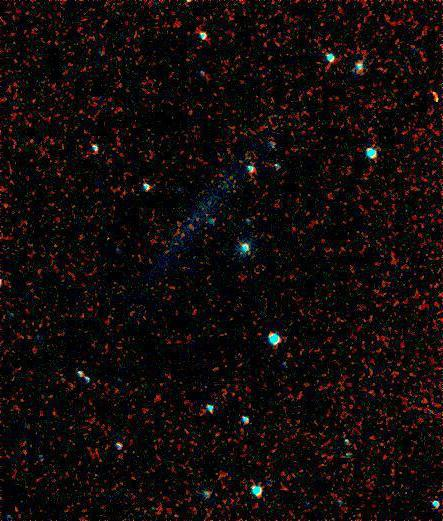star: (181, 241, 211, 271)
